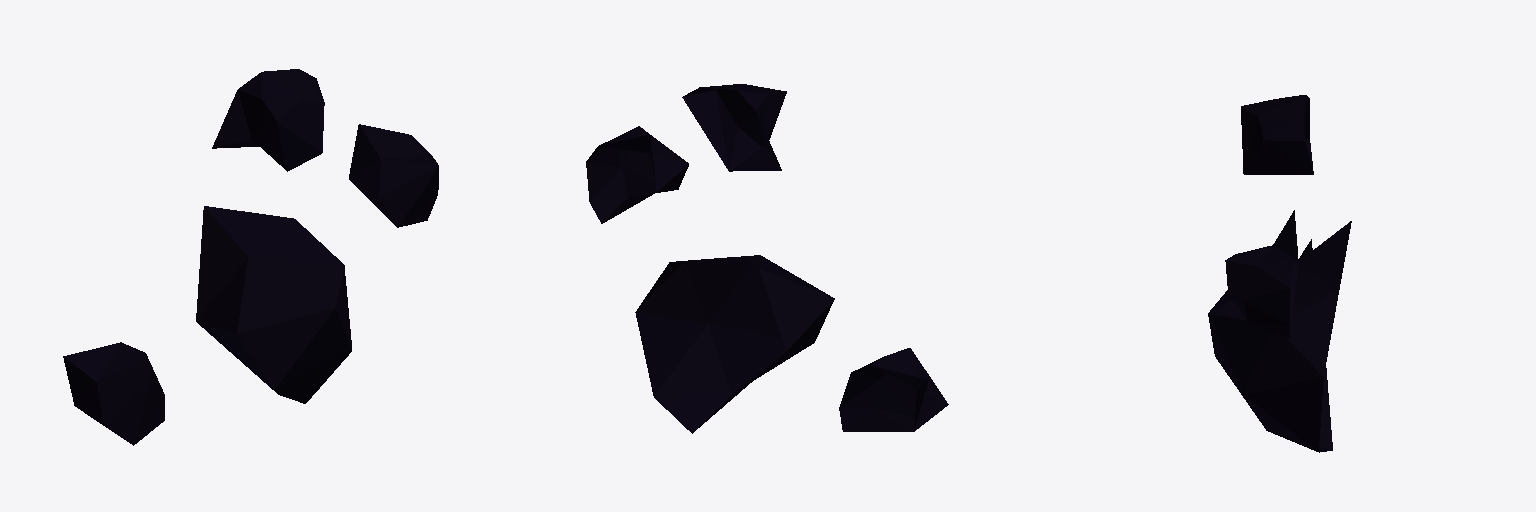
Rendered from rock_3.obj.
The picture shows the model from 3 angles: view 1: azimuth 30°, elevation 25°; view 2: azimuth 150°, elevation 25°; view 3: azimuth 270°, elevation 25°; orthographic projection.
Visible parts, largest first — view 1: Cylinder.009_Cylinder.011; view 2: Cylinder.009_Cylinder.011; view 3: Cylinder.009_Cylinder.011.
Part boxes in pixels (left/top/right/bottom): Cylinder.009_Cylinder.011: left=63, top=69, right=438, bottom=445; Cylinder.009_Cylinder.011: left=586, top=84, right=948, bottom=433; Cylinder.009_Cylinder.011: left=1208, top=95, right=1351, bottom=452.
Size of the model in its own units: 0.8908 by 0.8201 by 0.314.